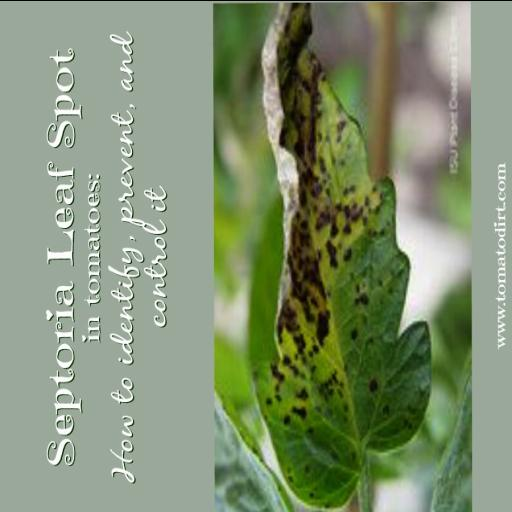disease_tomato: (248, 0, 436, 508)
